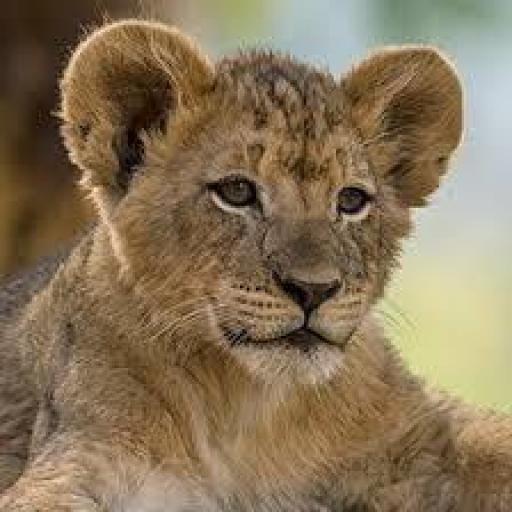lion: (0, 11, 510, 510)
